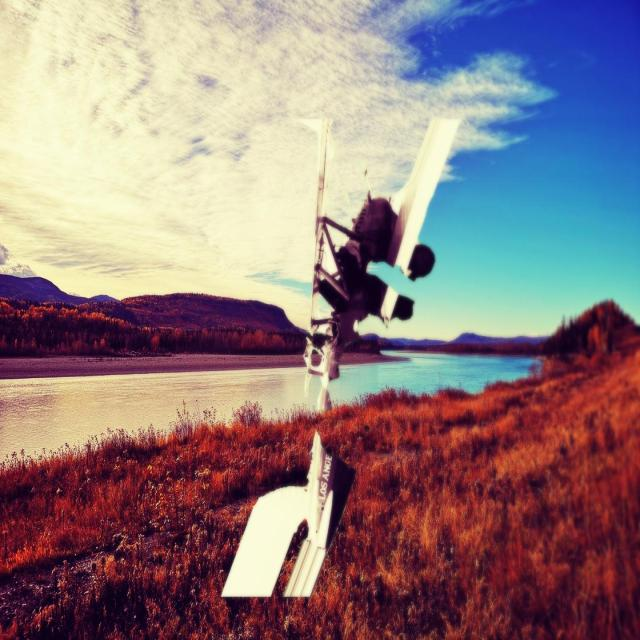airplane: (220, 116, 464, 596)
